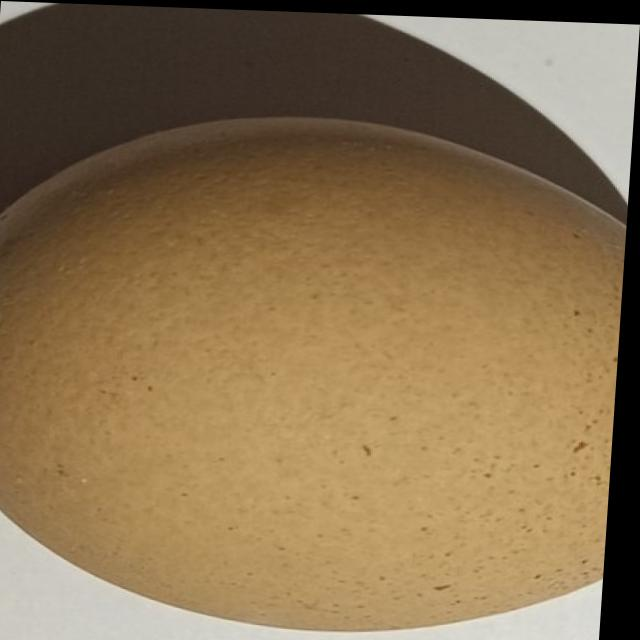unfresh: (0, 99, 635, 640)
